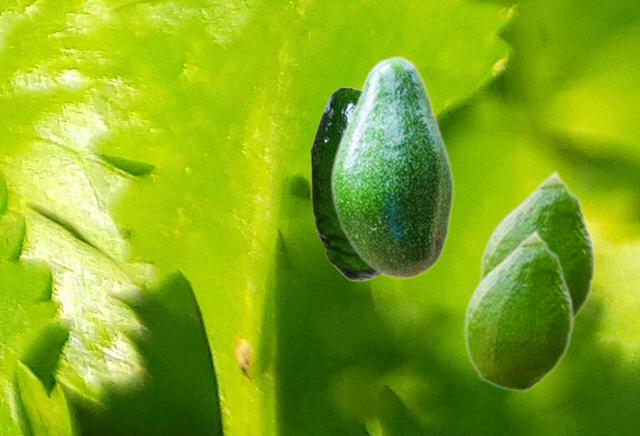avocado: (329, 55, 453, 279), (479, 169, 595, 324), (463, 228, 573, 391), (310, 86, 380, 280)
